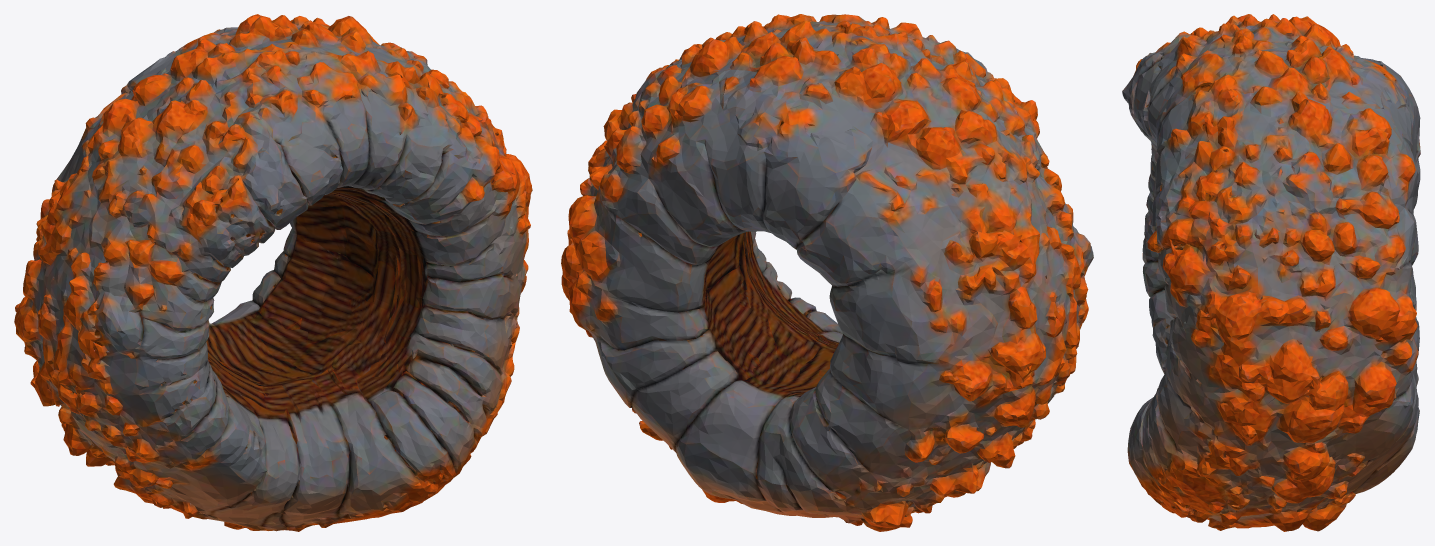
The model's file is volcanic_vent_01.glb.
3 renders of one model, left to right at view 1: azimuth 30°, elevation 25°; view 2: azimuth 150°, elevation 25°; view 3: azimuth 270°, elevation 25°, orthographic. The views are drawn at different scales.
Parts seen in each view (by area): view 1: geometry_0; view 2: geometry_0; view 3: geometry_0.
Part boxes in pixels (box(x1,y1,x2,y2)): geometry_0: box(14, 14, 532, 531); geometry_0: box(561, 14, 1093, 531); geometry_0: box(1122, 14, 1420, 531).
Size of the model in its own units: 1 by 0.9806 by 0.5734.
1 material, 1 textured.
